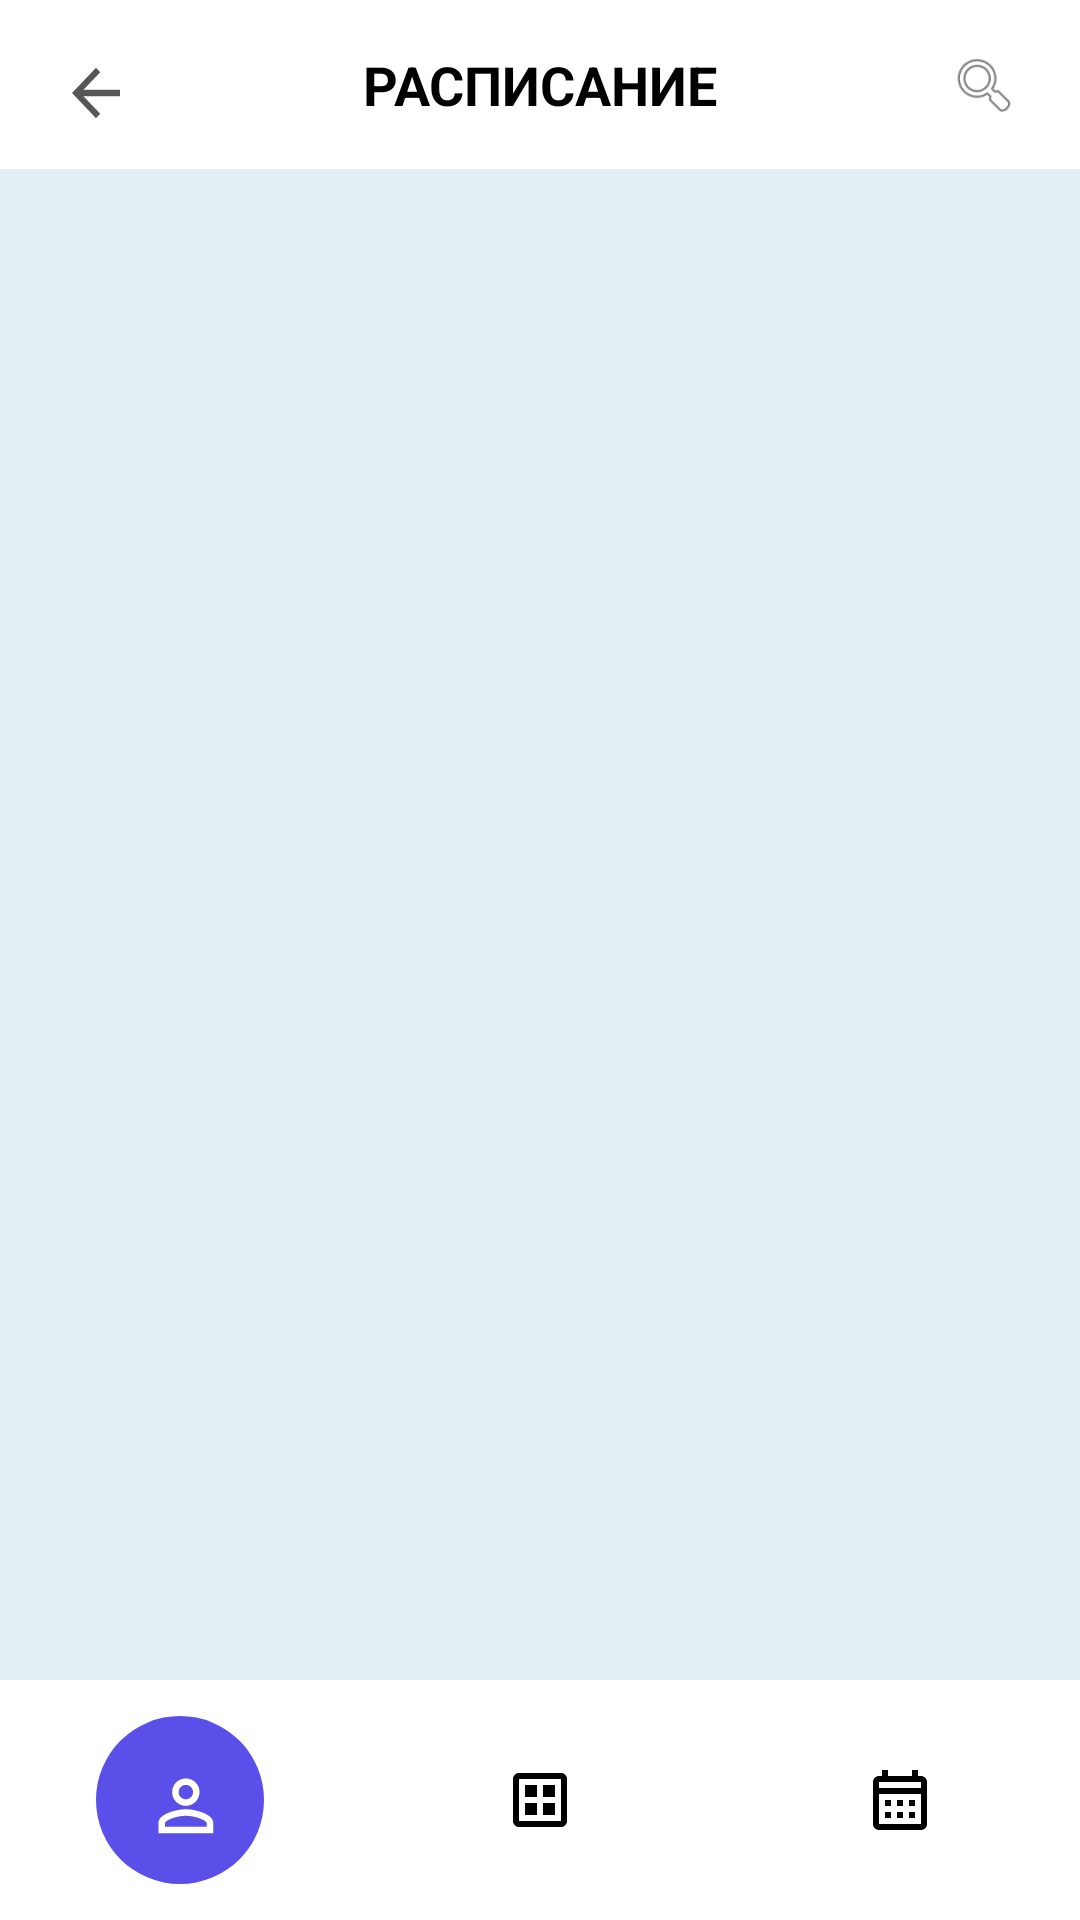

Where icons sit on this 1080 × 1920 app screen, as [left=x1, top=y1, right=x2, bottom=y2]:
search: [left=957, top=59, right=1011, bottom=112]
